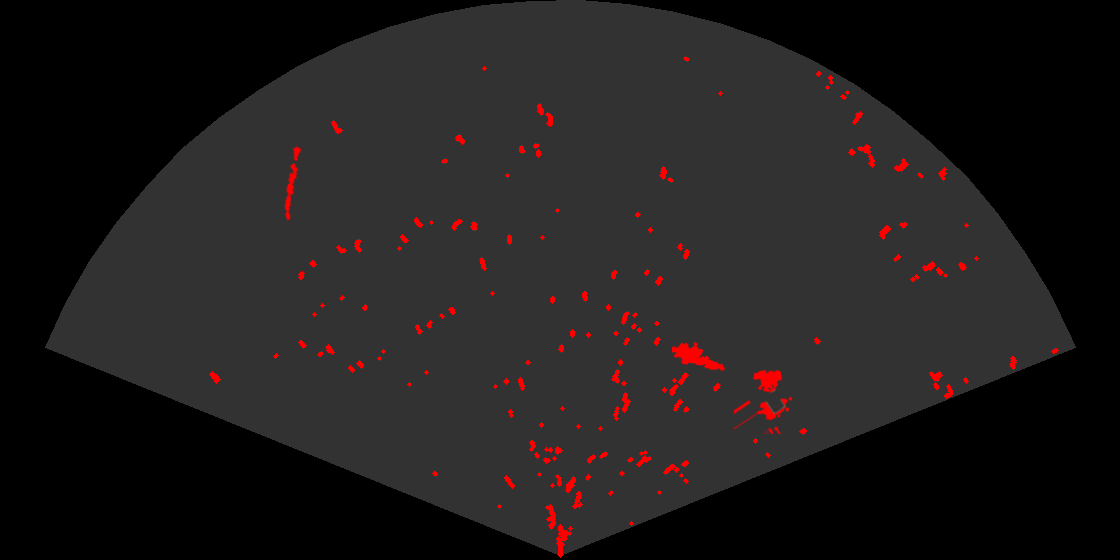cage: (734, 368, 794, 434)
chain: (283, 143, 303, 222)
frogman: (672, 340, 726, 372)
